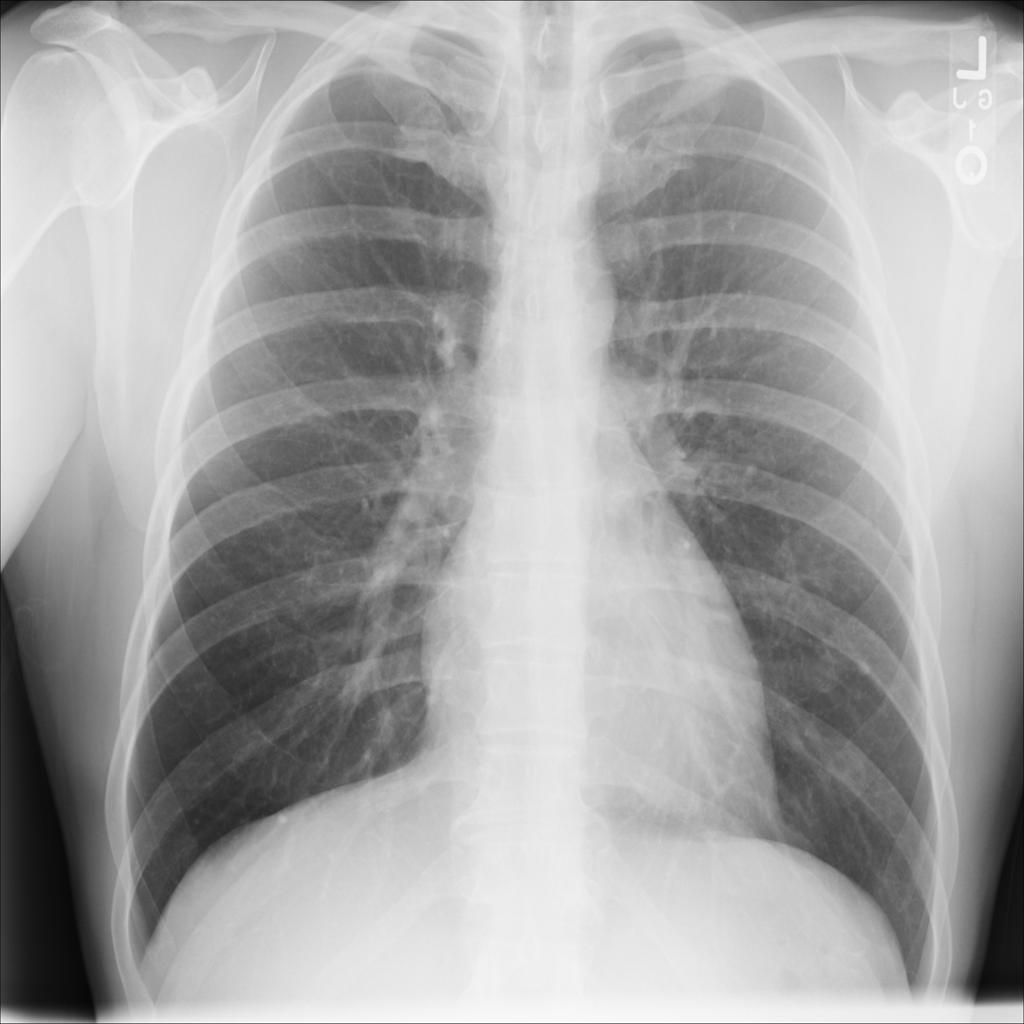nodule: (839, 629, 900, 708)
